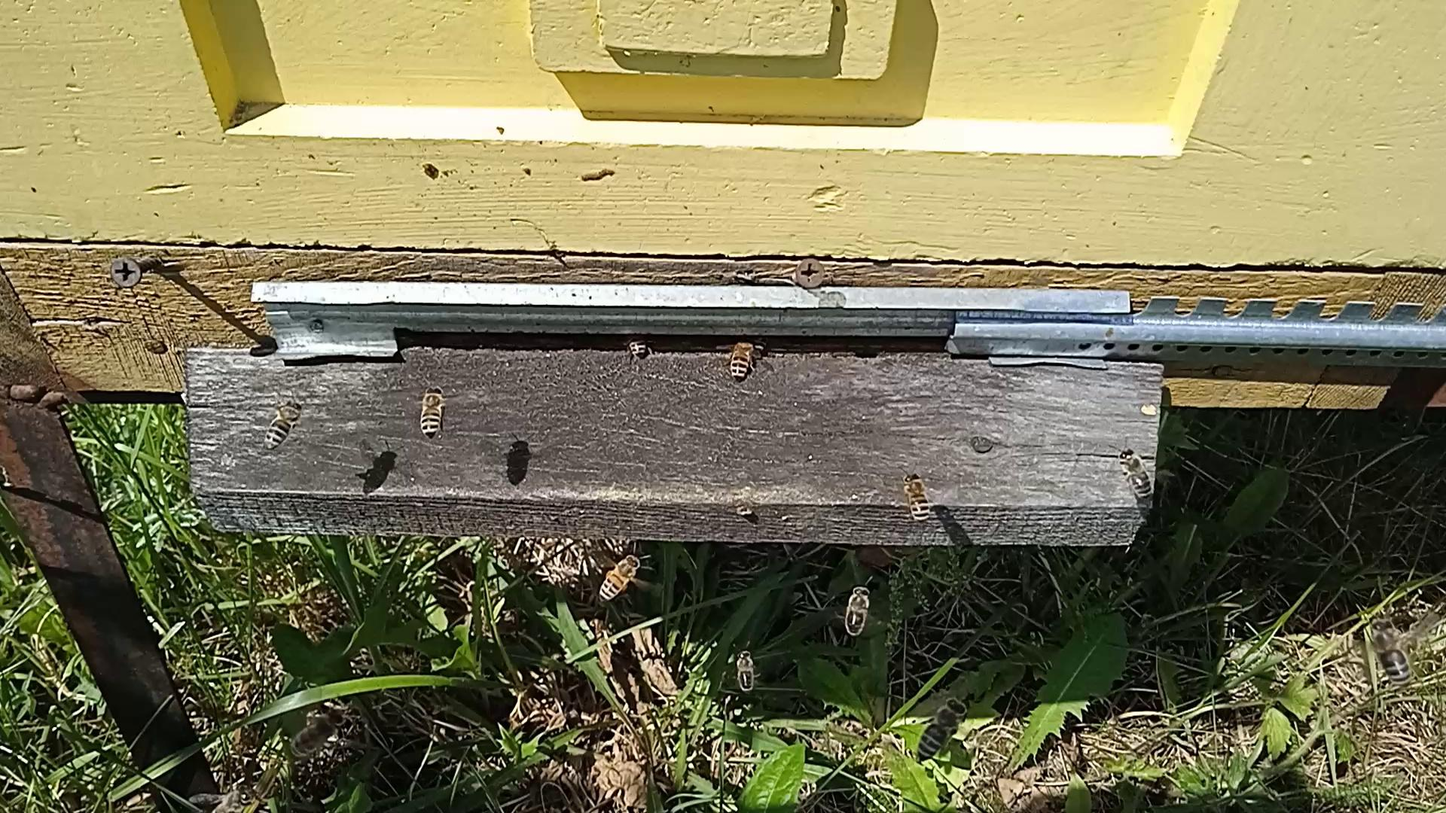worker-bee: (915, 697, 969, 762), (1368, 617, 1414, 687), (291, 708, 346, 760), (598, 553, 642, 601), (264, 398, 304, 449), (1118, 446, 1155, 500), (417, 384, 447, 439), (844, 583, 874, 637), (901, 471, 932, 522), (726, 336, 758, 381), (209, 787, 252, 813), (735, 649, 758, 693), (623, 332, 652, 361)
